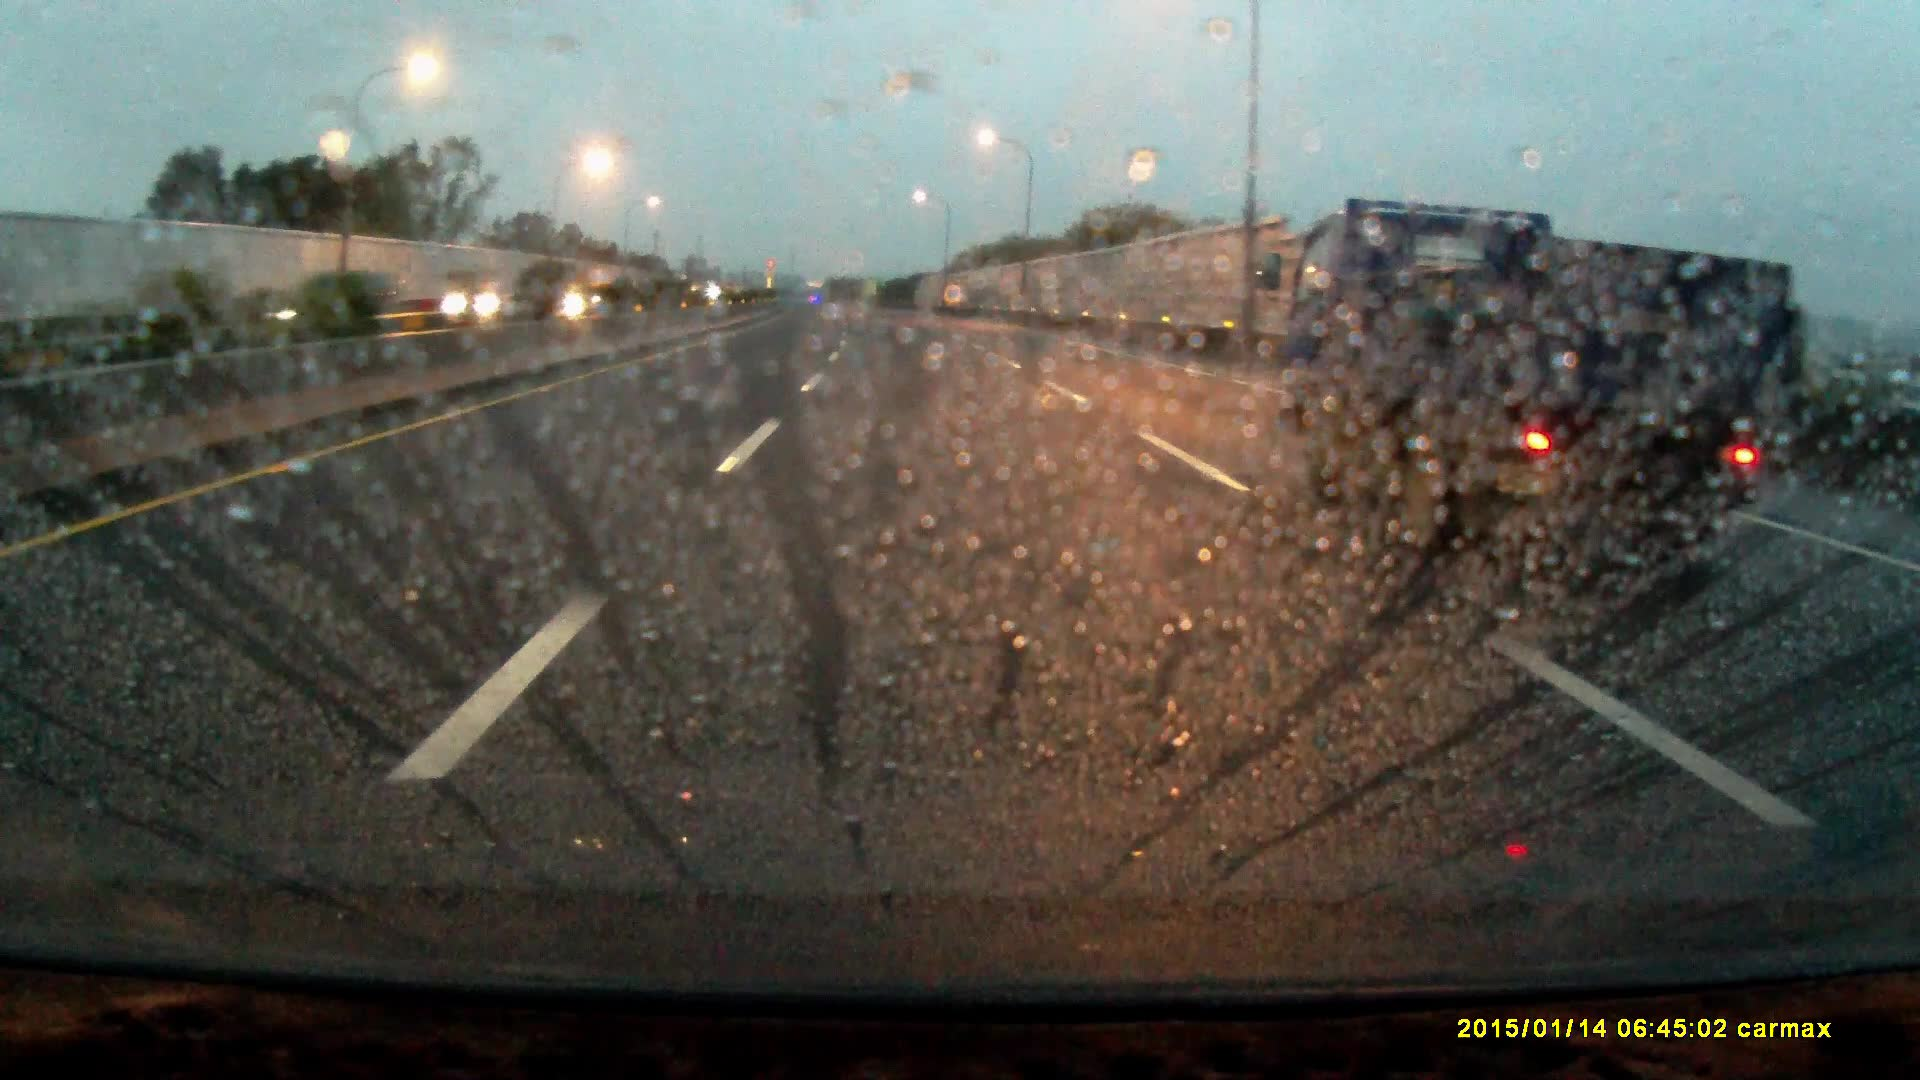vehicle: (1251, 199, 1791, 560), (239, 273, 396, 336), (533, 274, 601, 316), (452, 284, 512, 316)
